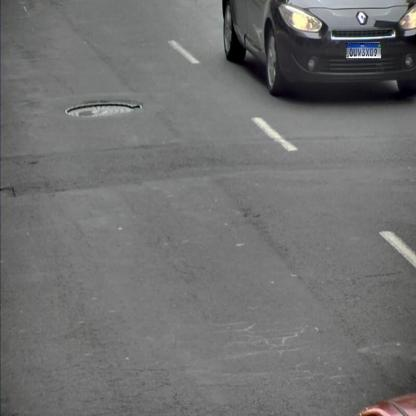PlacaM: (346, 43, 381, 59)
